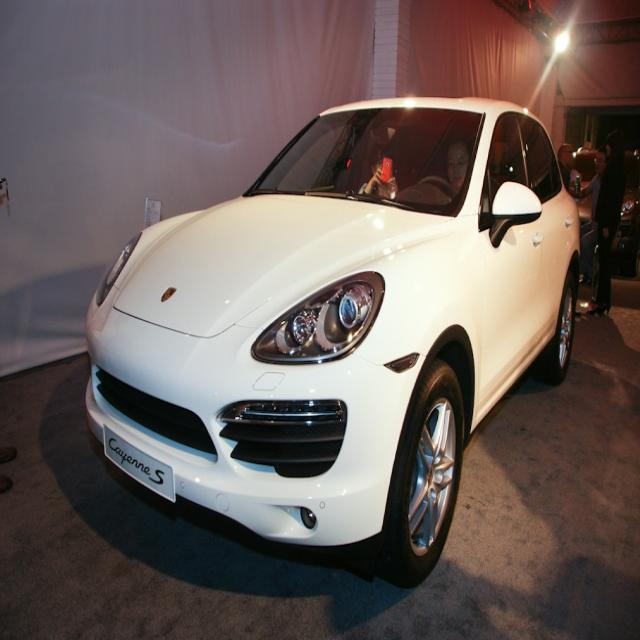front_bumper: (83, 302, 399, 552)
front_glass: (246, 108, 484, 219)
front_left_side_door: (480, 109, 542, 414)
front_left_side_light: (248, 266, 388, 364)
front_left_side_mirror: (490, 178, 545, 241)
front_right_side_light: (97, 230, 141, 311)
wheel: (386, 362, 462, 574), (551, 270, 580, 380)
